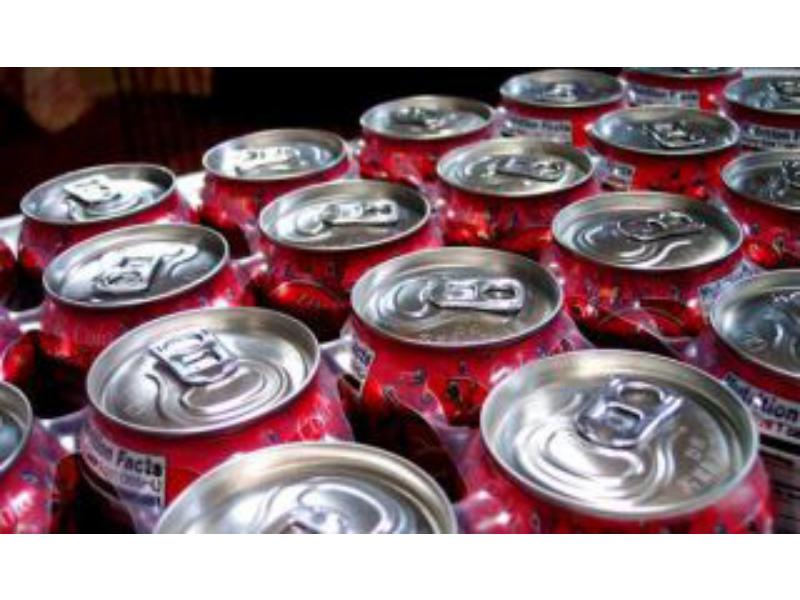can: (480, 342, 768, 523), (81, 303, 323, 436), (147, 435, 464, 533), (339, 243, 565, 353), (549, 183, 753, 273), (35, 216, 233, 307), (256, 175, 437, 247), (433, 133, 593, 210), (16, 160, 203, 225), (707, 252, 799, 383), (592, 102, 738, 164), (197, 126, 357, 181), (356, 92, 499, 145), (500, 67, 632, 111), (719, 143, 799, 212), (723, 69, 800, 124)
